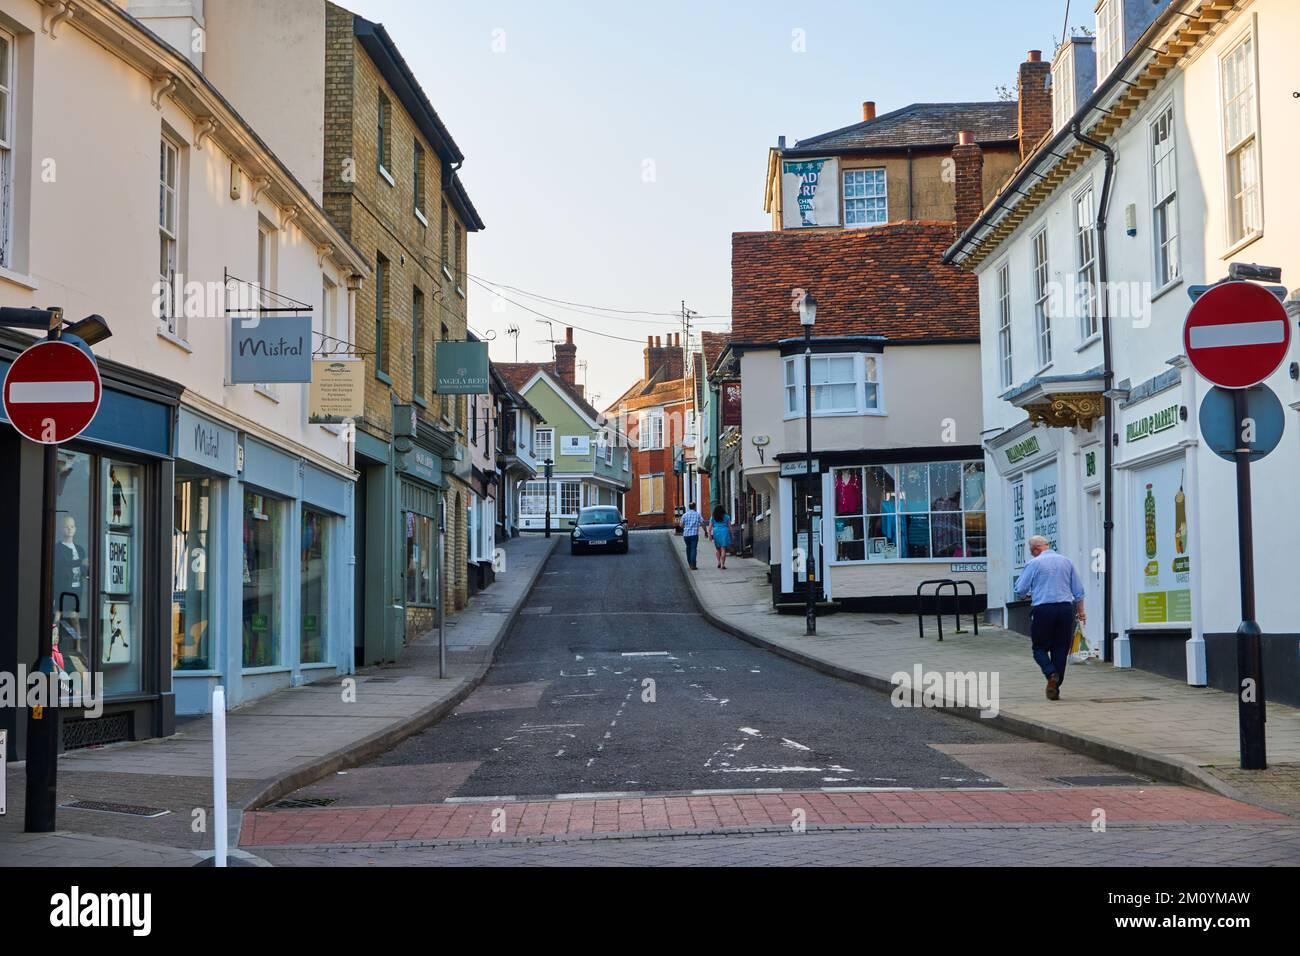no-entry: (3, 340, 109, 441), (1187, 285, 1290, 387)
